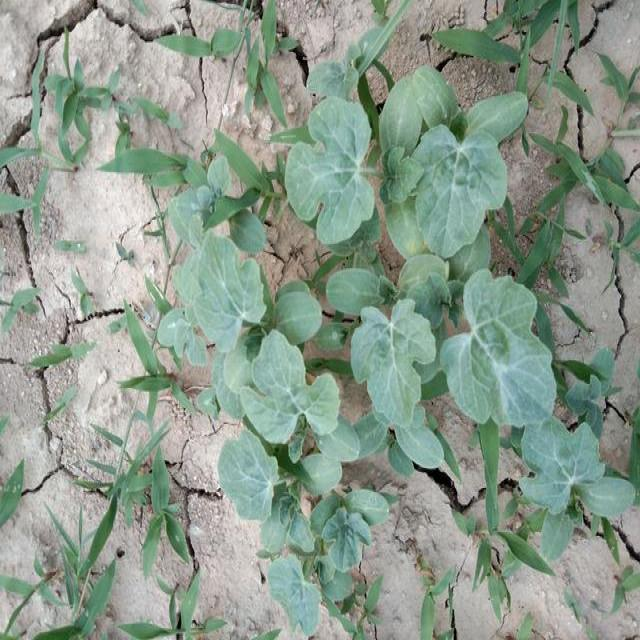weed: (174, 235, 380, 616), (187, 247, 552, 424), (305, 87, 511, 249), (505, 418, 639, 550), (346, 230, 444, 410), (126, 152, 283, 248), (19, 58, 94, 159)
